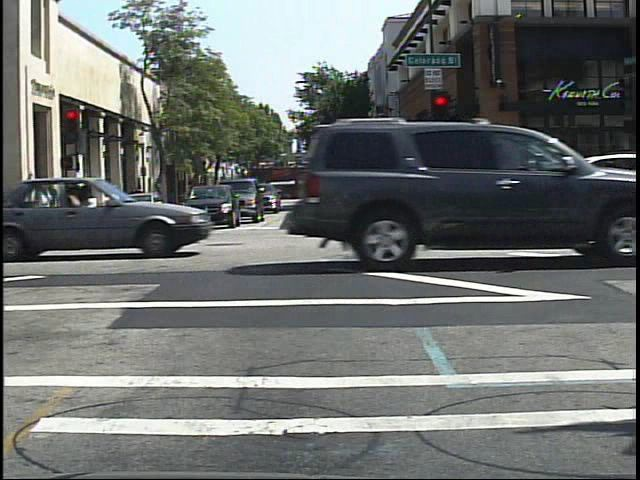person: (105, 181, 125, 228)
